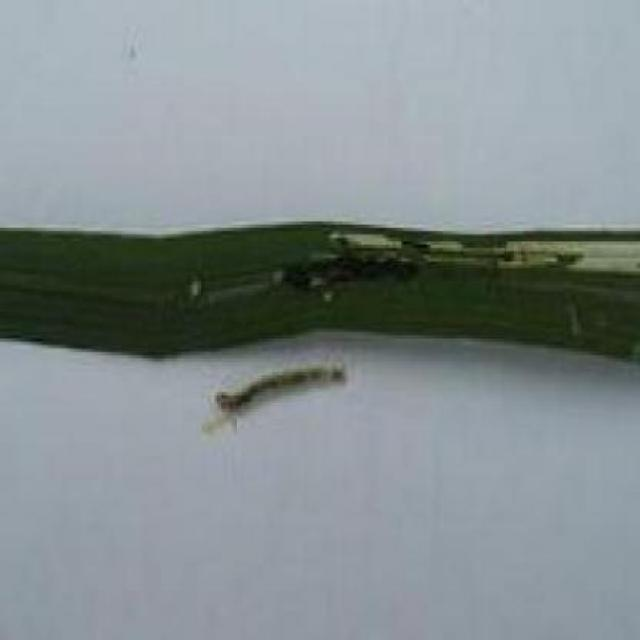leaf-folder: (189, 343, 362, 443)
